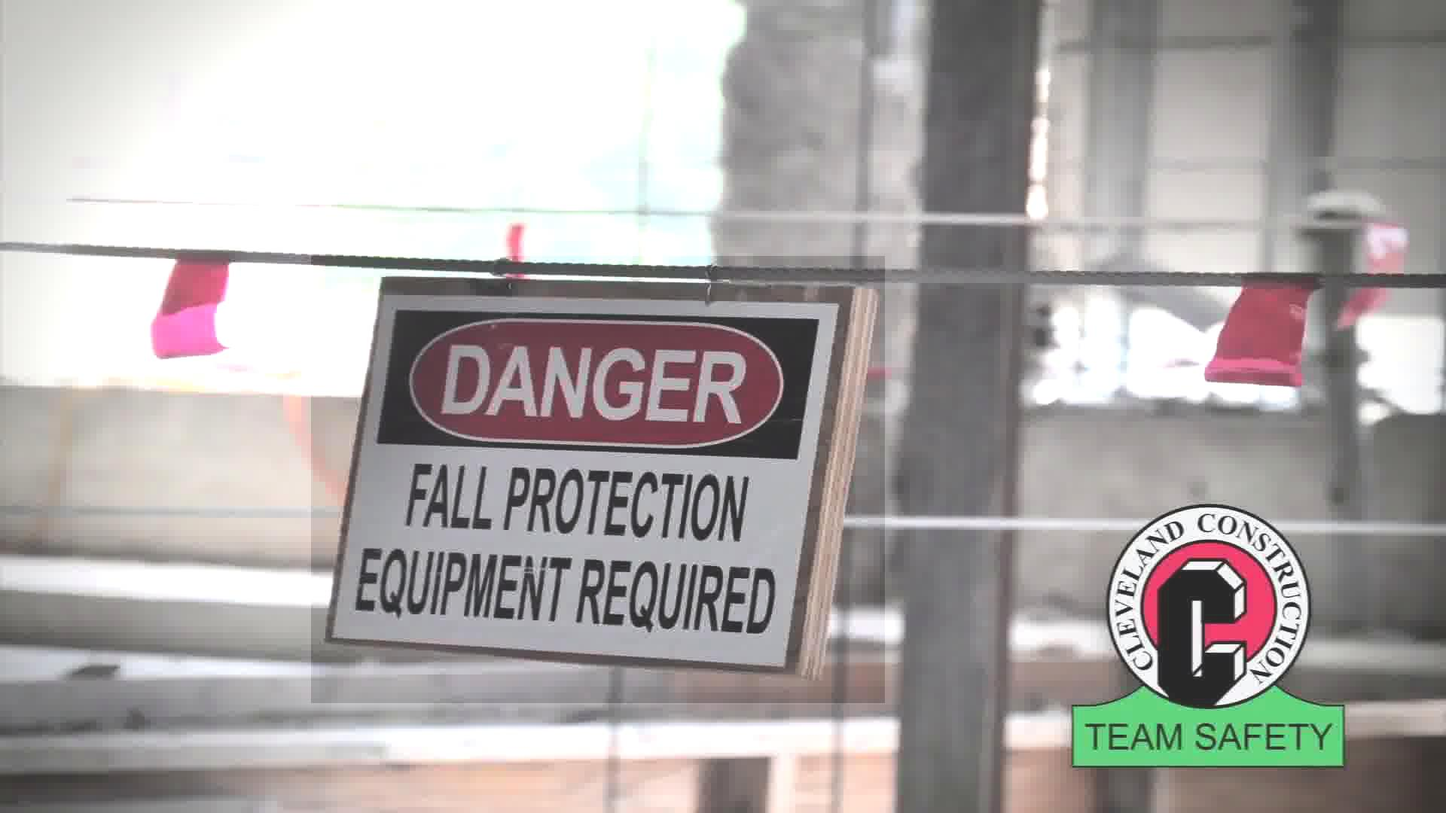safety_signage: (311, 256, 885, 703)
